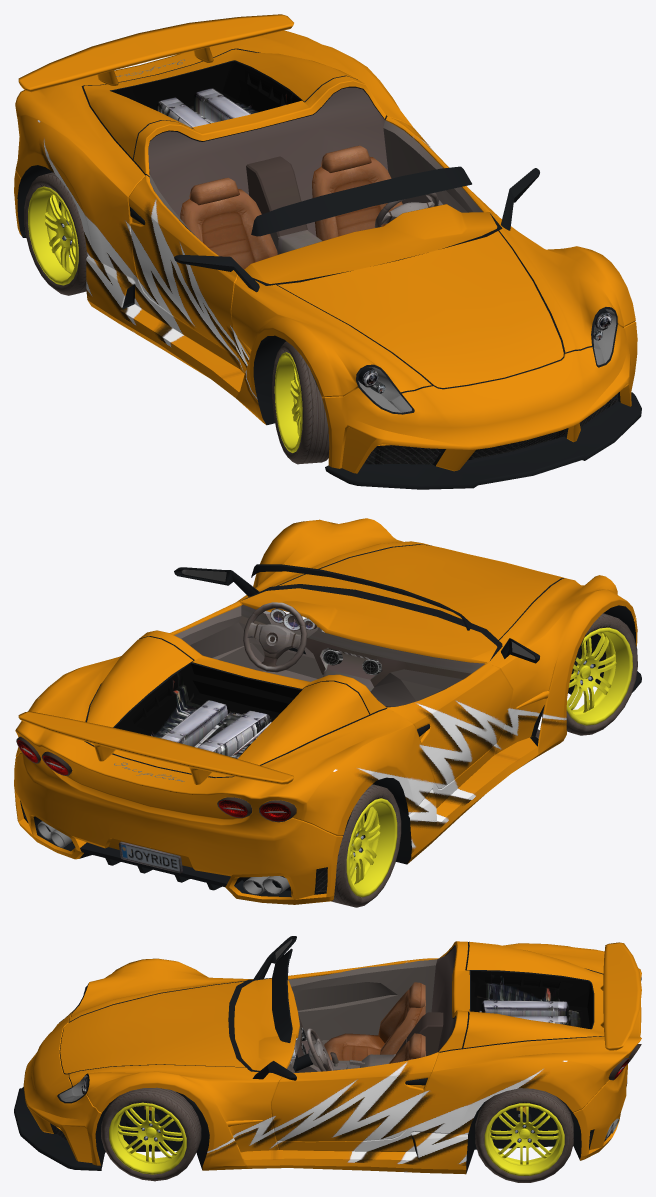
Rendered from car1.glb.
3 views of the same model, one above another, from view 1: azimuth 30°, elevation 25°; view 2: azimuth 150°, elevation 25°; view 3: azimuth 270°, elevation 25° (orthographic). The views are drawn at different scales.
Parts seen in each view (by area): view 1: polySurface107.44, polySurface70.23, polySurface40.42, polySurface7.40, polySurface56.13, polySurface54.11, polySurface61.18, polySurface55.12, polySurface57.14, polySurface60.17; view 2: polySurface107.44, polySurface7.40, polySurface40.42, polySurface70.23, polySurface58.15, polySurface59.16, polySurface65.45, polySurface68.21, polySurface60.17; view 3: polySurface107.44, polySurface51.43, polySurface19.41, polySurface70.23, polySurface56.13, polySurface61.18, polySurface120.39, polySurface60.17, polySurface57.14, polySurface59.16, polySurface55.12.
Boxes of the visible parts, x1,y1,x2,y2 form: polySurface107.44: (14, 30, 641, 489); polySurface70.23: (18, 14, 293, 92); polySurface40.42: (24, 172, 87, 295); polySurface7.40: (272, 341, 329, 464); polySurface56.13: (180, 189, 277, 269); polySurface54.11: (312, 157, 402, 240); polySurface61.18: (174, 254, 259, 292); polySurface55.12: (321, 145, 371, 172); polySurface57.14: (189, 177, 239, 205); polySurface60.17: (501, 168, 539, 230); polySurface107.44: (14, 518, 641, 904); polySurface7.40: (541, 613, 637, 735); polySurface40.42: (331, 784, 401, 907); polySurface70.23: (18, 711, 294, 784); polySurface58.15: (247, 622, 300, 666); polySurface59.16: (243, 602, 307, 672); polySurface65.45: (37, 821, 289, 894); polySurface68.21: (118, 841, 182, 873); polySurface60.17: (174, 567, 259, 596); polySurface107.44: (14, 941, 641, 1174); polySurface51.43: (475, 1088, 573, 1182); polySurface19.41: (101, 1087, 201, 1181); polySurface70.23: (600, 942, 641, 1050); polySurface56.13: (324, 989, 425, 1060); polySurface61.18: (253, 936, 296, 979); polySurface120.39: (125, 1106, 534, 1147); polySurface60.17: (252, 1061, 296, 1080); polySurface57.14: (409, 982, 425, 1007); polySurface59.16: (306, 1028, 333, 1071); polySurface55.12: (409, 1033, 425, 1059).
Bounding box in the file's own units: 0.0187 × 0.0089 × 0.0352.
Materials: 62 (62 with a texture image).
